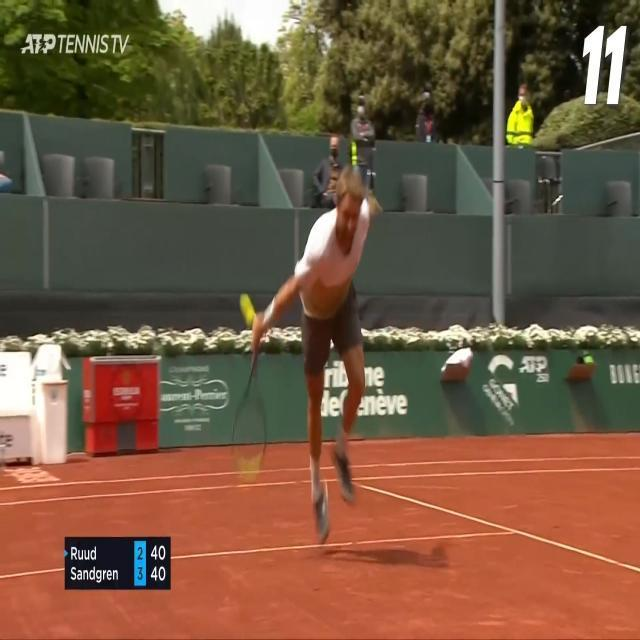player: (240, 163, 386, 556)
